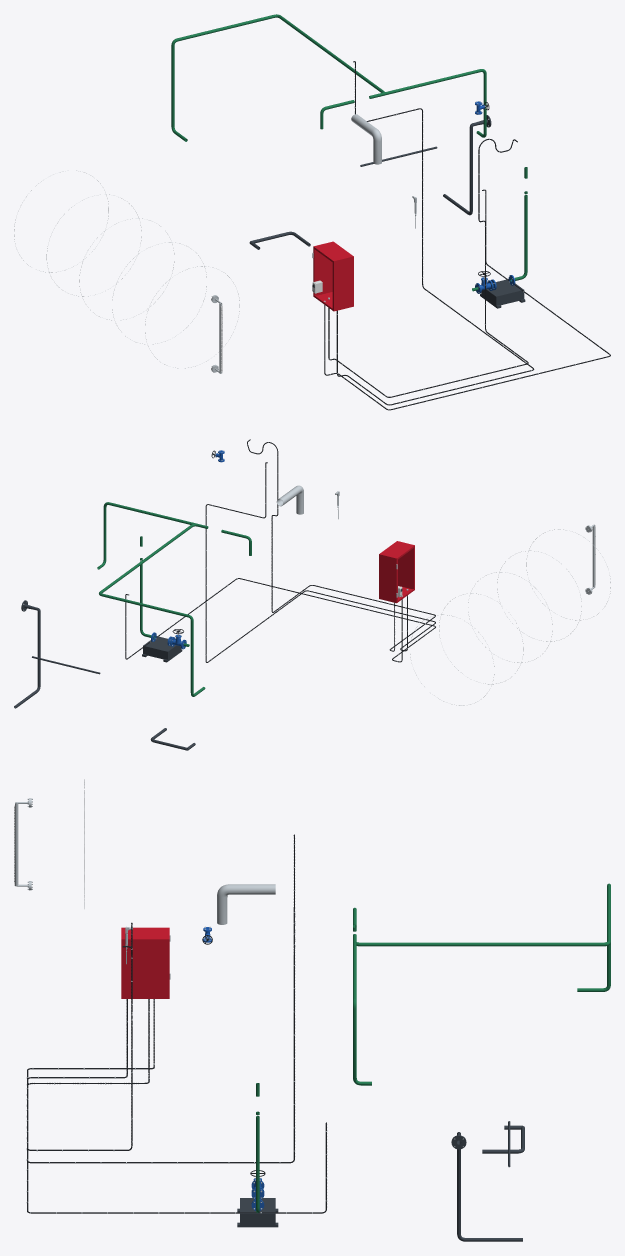
3 views of the same model, one above another, from view 1: azimuth 30°, elevation 25°; view 2: azimuth 150°, elevation 25°; view 3: azimuth 270°, elevation 25° (orthographic). The views are drawn at different scales.
Parts seen in each view (by area): view 1: control_cabinet / control_cabinet_0.npz, from_economizer / green, gpz_drive_cable / black, wiring_pump_2 / black, wiring_pressure_switch_2 / black, pump_branch_1 / dark, deaerator_details / steel, to_direct / green, bottom_to_bdv / dark, steam_rise / steel; view 2: control_cabinet / control_cabinet_0.npz, from_economizer / green, gpz_drive_cable / black, wiring_pump_2 / black, wiring_pressure_switch_2 / black, deaerator_details / steel, pump_branch_1 / dark, to_direct / green, bottom_to_bdv / dark; view 3: control_cabinet / control_cabinet_0.npz, from_economizer / green, gpz_drive_cable / black, wiring_pressure_switch_2 / black, wiring_pump_2 / black, pump_branch_1 / dark, steam_rise / steel, bottom_to_bdv / dark, to_direct / green.
Boxes of the visible parts, x1,y1,x2,y2 form: control_cabinet / control_cabinet_0.npz: (312,241,353,311); from_economizer / green: (171,14,384,141); gpz_drive_cable / black: (336,61,534,405); wiring_pump_2 / black: (324,189,610,410); wiring_pressure_switch_2 / black: (328,139,528,397); pump_branch_1 / dark: (480,279,525,308); deaerator_details / steel: (14,170,239,373); to_direct / green: (369,69,486,137); bottom_to_bdv / dark: (443,115,491,215); steam_rise / steel: (351,114,381,164); control_cabinet / control_cabinet_0.npz: (379,541,414,603); from_economizer / green: (99,523,207,696); gpz_drive_cable / black: (205,462,435,662); wiring_pump_2 / black: (125,578,435,662); wiring_pressure_switch_2 / black: (247,439,435,651); deaerator_details / steel: (410,524,610,705); pump_branch_1 / dark: (142,636,182,662); to_direct / green: (97,502,208,569); bottom_to_bdv / dark: (14,600,40,708); control_cabinet / control_cabinet_0.npz: (121,927,170,998); from_economizer / green: (353,883,610,991); gpz_drive_cable / black: (27,834,295,1163); wiring_pressure_switch_2 / black: (27,922,154,1150); wiring_pump_2 / black: (27,999,326,1213); pump_branch_1 / dark: (237,1198,278,1227); steam_rise / steel: (217,884,275,924); bottom_to_bdv / dark: (451,1132,522,1241); to_direct / green: (353,940,371,1085).
Bounding box in the file's own units: 7.52 × 3.71 × 6.53.
